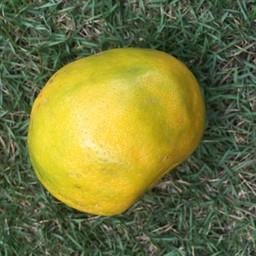Good_orange: (20, 41, 202, 209)
